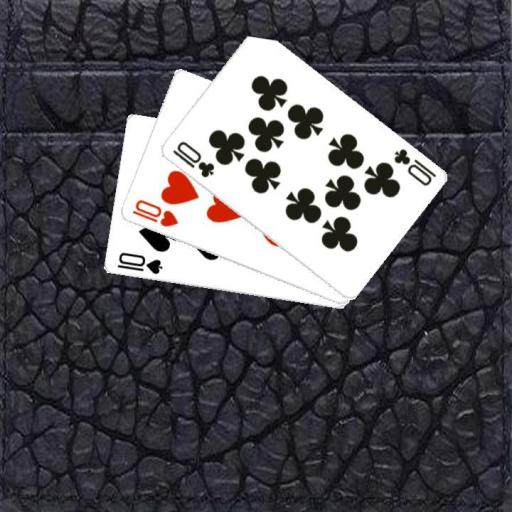10C: (390, 145, 437, 188), (169, 138, 216, 180)
10H: (129, 196, 179, 229)
10S: (113, 250, 164, 277)
